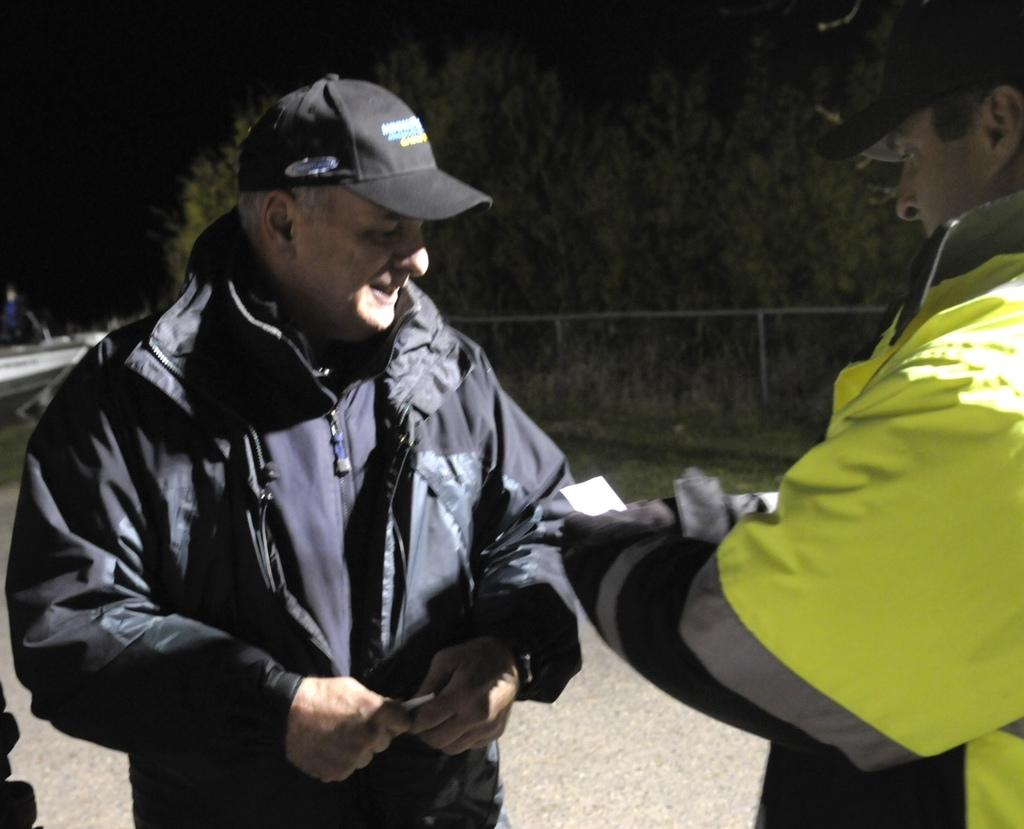Hat: (232, 70, 494, 220), (820, 0, 1022, 167)
